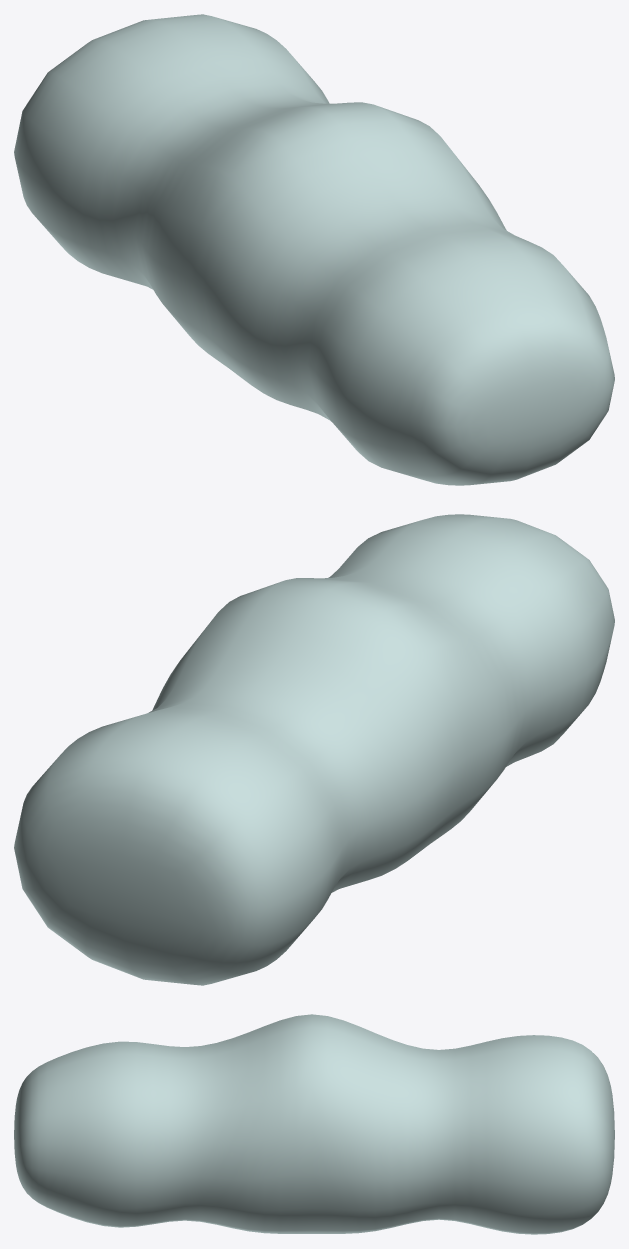
File: Tripod.fbx
3 renders of one model, top to bottom at view 1: azimuth 30°, elevation 25°; view 2: azimuth 150°, elevation 25°; view 3: azimuth 270°, elevation 25°, orthographic. The views are drawn at different scales.
Parts seen in each view (by area): view 1: Cube.049; view 2: Cube.049; view 3: Cube.049.
Part boxes in pixels (x1=…): Cube.049: x1=14, y1=14, x2=614, y2=485; Cube.049: x1=14, y1=514, x2=614, y2=985; Cube.049: x1=14, y1=1014, x2=614, y2=1234.
Size of the model in its own units: 257 by 237 by 667.
